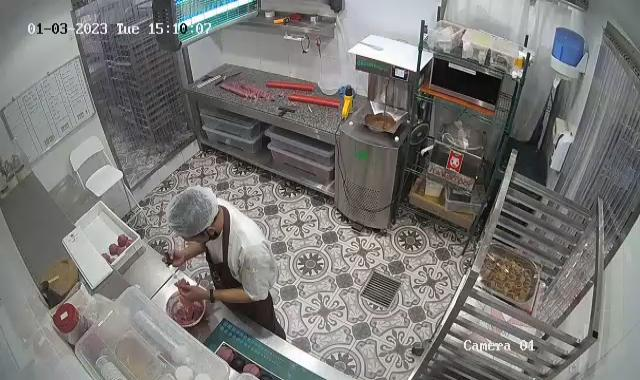hairnet: (167, 189, 218, 240)
